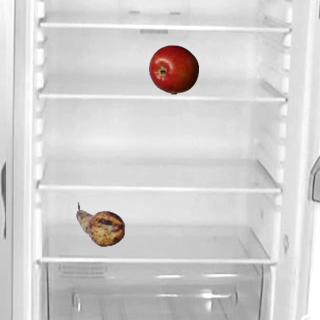Apple Braeburn: (148, 44, 198, 94)
Pear Abate: (75, 199, 125, 249)
